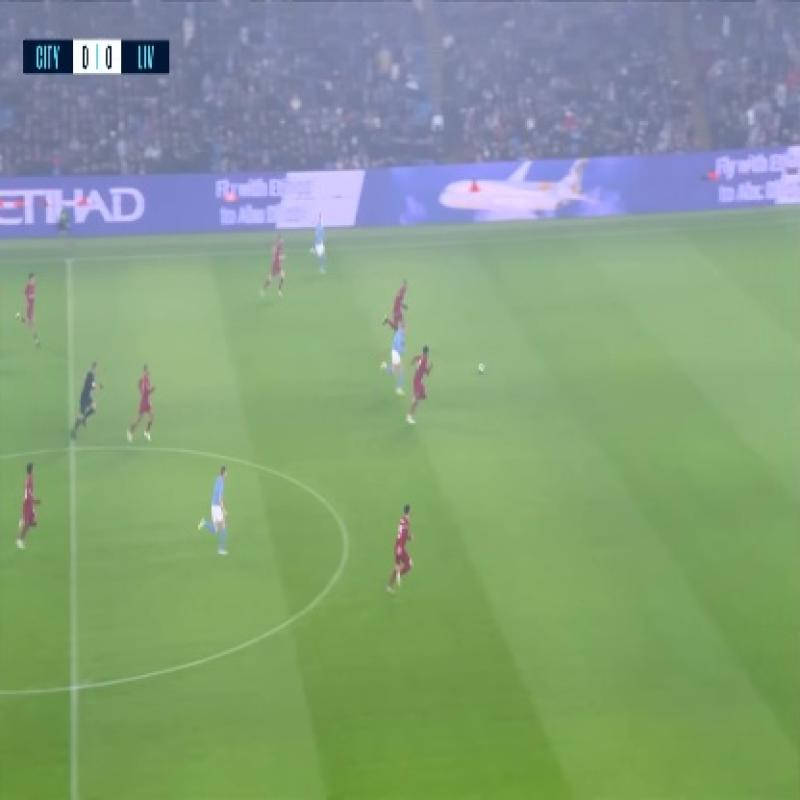13: (57, 244, 80, 277)
14: (55, 428, 86, 468)
15: (53, 664, 90, 708)
c: (329, 520, 368, 565)
